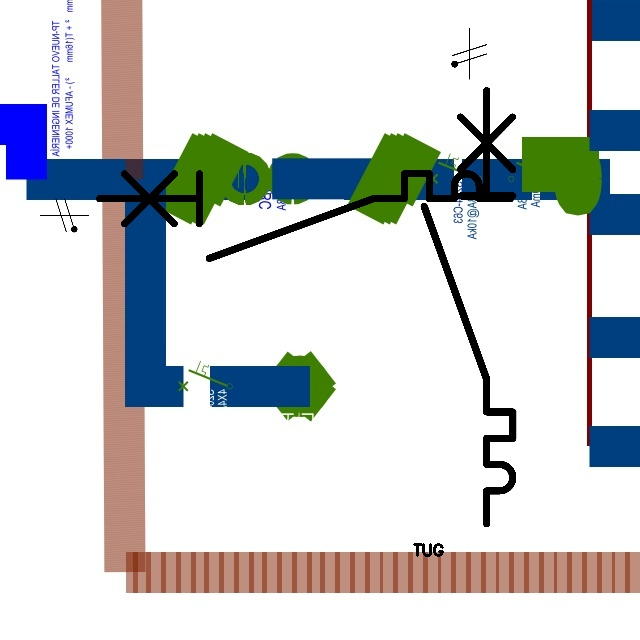interruptor_termomagnetico: (413, 79, 524, 535), (88, 163, 520, 269)
